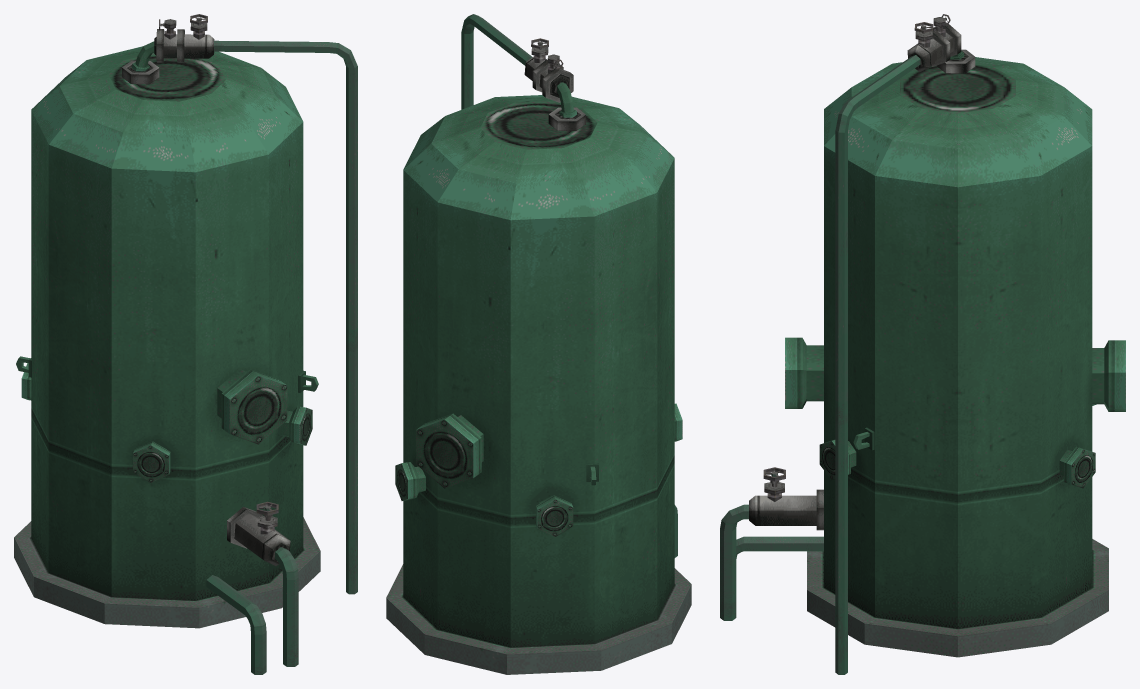
File: filter_01.obj
3 renders of one model, left to right at view 1: azimuth 30°, elevation 25°; view 2: azimuth 150°, elevation 25°; view 3: azimuth 270°, elevation 25°, orthographic. The views are drawn at different scales.
Parts seen in each view (by area): view 1: Object041; view 2: Object041; view 3: Object041.
Part boxes in pixels (box(x1,y1,x2,y2)): Object041: box(14, 14, 357, 674); Object041: box(386, 14, 691, 674); Object041: box(720, 14, 1125, 674).
Bounding box in the file's own units: 9.79 × 20.17 × 12.5.
